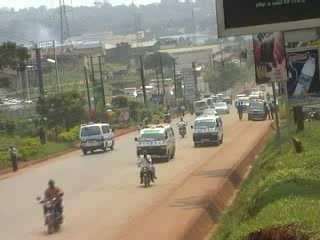Car: (198, 106, 220, 121), (212, 102, 231, 116)
Motorcycle: (35, 191, 65, 236), (134, 161, 157, 188), (175, 120, 187, 139)
